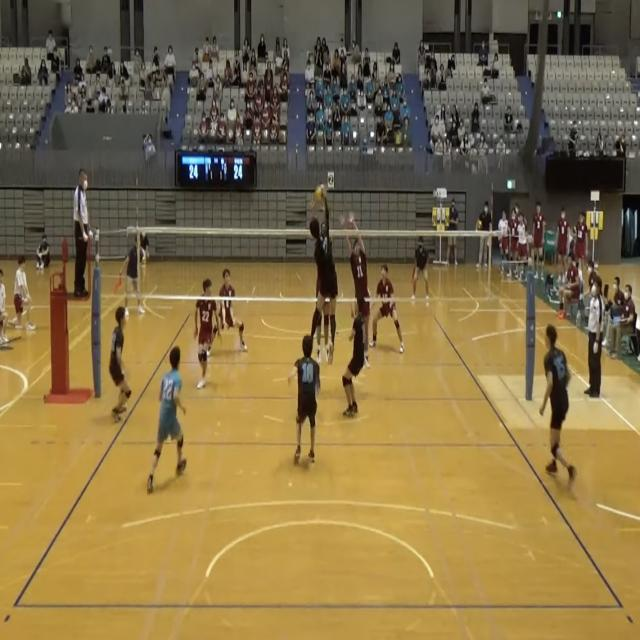spike: (304, 179, 340, 373)
